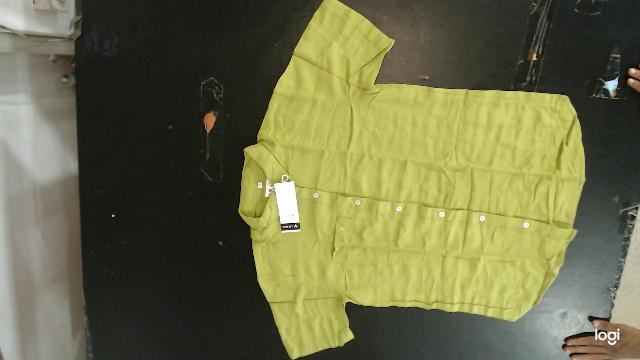new-garment: (239, 0, 584, 358)
